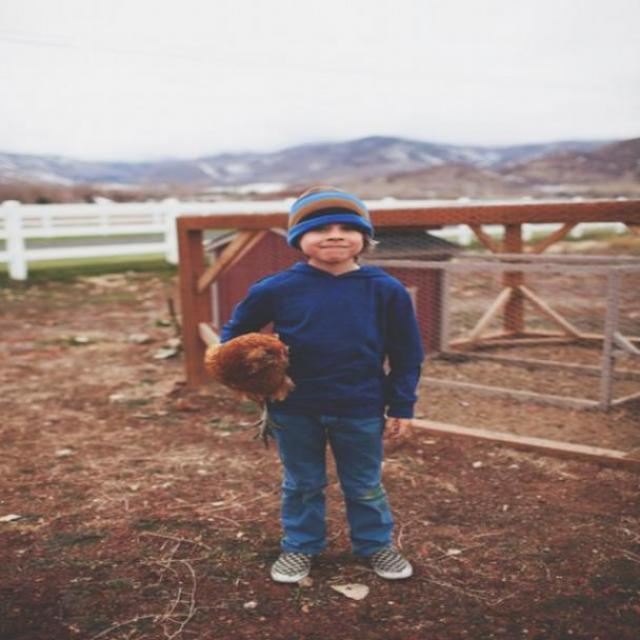Chicken: (202, 328, 293, 444)
